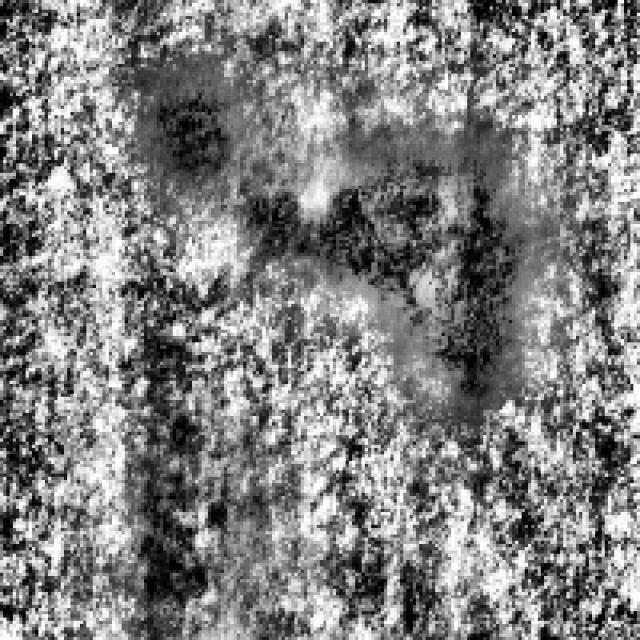Scratches: (272, 132, 528, 406), (128, 422, 221, 634), (124, 54, 233, 180)
